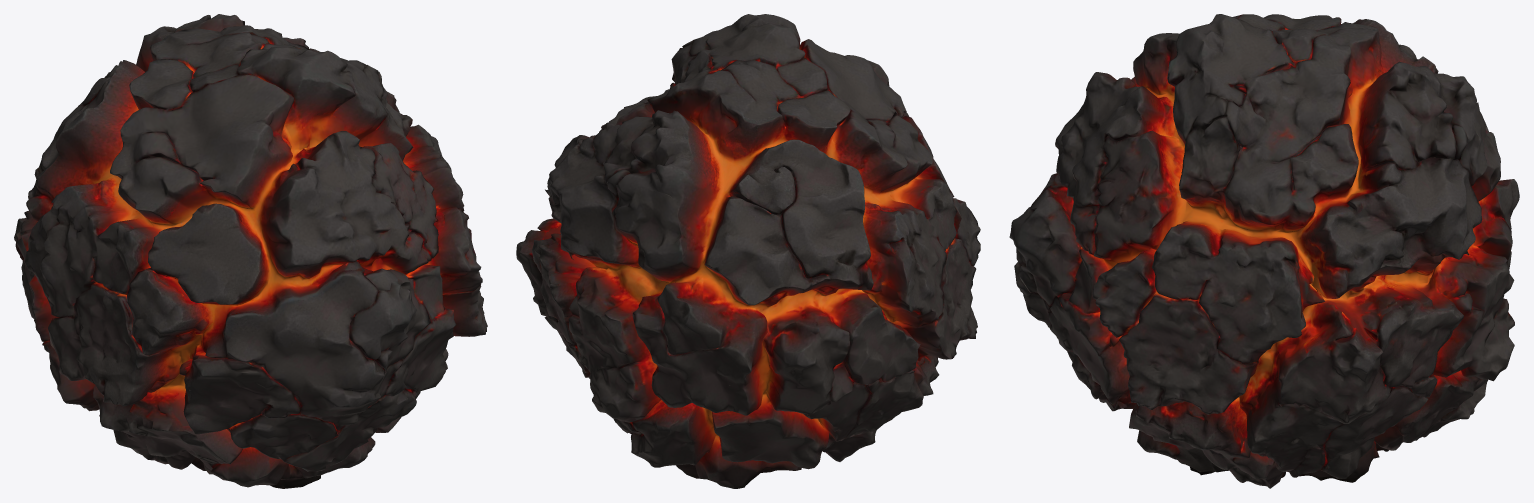
The model's file is molten_rock.glb.
3 views of the same model, side by side, from view 1: azimuth 30°, elevation 25°; view 2: azimuth 150°, elevation 25°; view 3: azimuth 270°, elevation 25° (orthographic). The views are drawn at different scales.
Visible parts, largest first — view 1: tripo_node_b244e1f1-6470-4e71-86ef-d7ed8d25ae45; view 2: tripo_node_b244e1f1-6470-4e71-86ef-d7ed8d25ae45; view 3: tripo_node_b244e1f1-6470-4e71-86ef-d7ed8d25ae45.
Boxes of the visible parts, <box> form: tripo_node_b244e1f1-6470-4e71-86ef-d7ed8d25ae45: <box>14,14,487,488</box>; tripo_node_b244e1f1-6470-4e71-86ef-d7ed8d25ae45: <box>516,14,980,488</box>; tripo_node_b244e1f1-6470-4e71-86ef-d7ed8d25ae45: <box>1009,14,1519,488</box>.
Size of the model in its own units: 0.9446 by 0.9654 by 0.9912.
Materials: 1 (1 with a texture image).
